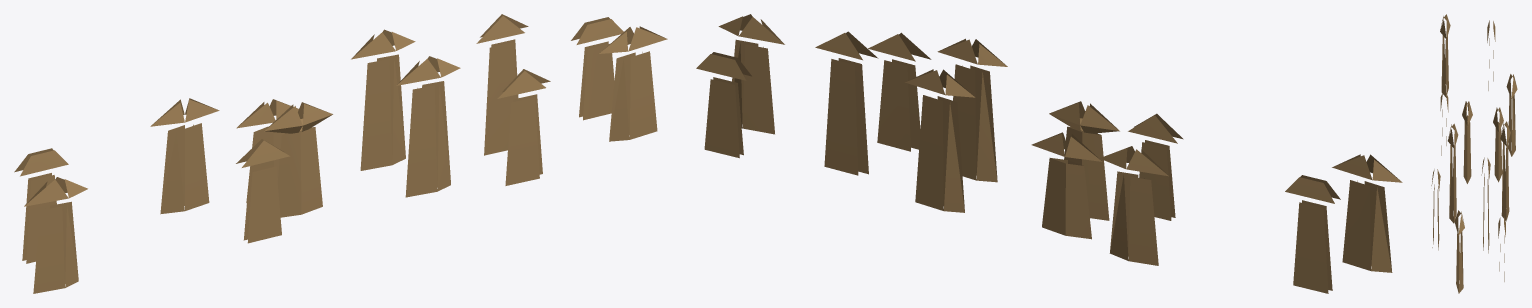
The model's file is wheat.glb.
The picture shows the model from 3 angles, left to right: view 1: azimuth 30°, elevation 25°; view 2: azimuth 150°, elevation 25°; view 3: azimuth 270°, elevation 25°; orthographic projection. The views are drawn at different scales.
Visible parts, largest first — view 1: wheat; view 2: wheat; view 3: wheat.
Boxes of the visible parts, x1,y1,x2,y2 form: wheat: (14,14,667,293); wheat: (696,14,1402,293); wheat: (1431,14,1517,293).
Size of the model in its own units: 4.2 by 0.8257 by 0.7.
